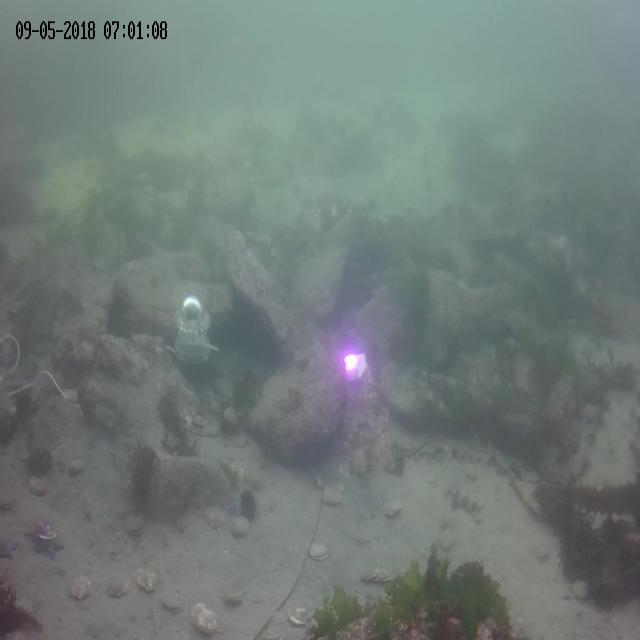echinus: (237, 485, 255, 516)
scallop: (193, 604, 219, 632), (304, 537, 330, 563), (220, 585, 248, 607), (136, 565, 160, 587), (286, 605, 311, 626), (68, 574, 88, 600), (104, 576, 129, 596), (27, 472, 45, 498), (382, 498, 402, 520), (324, 488, 346, 508), (162, 594, 183, 614), (125, 512, 145, 532), (374, 568, 394, 585), (230, 521, 252, 535), (360, 560, 374, 580)
starfish: (34, 533, 60, 555), (28, 513, 54, 535), (3, 530, 17, 560)
